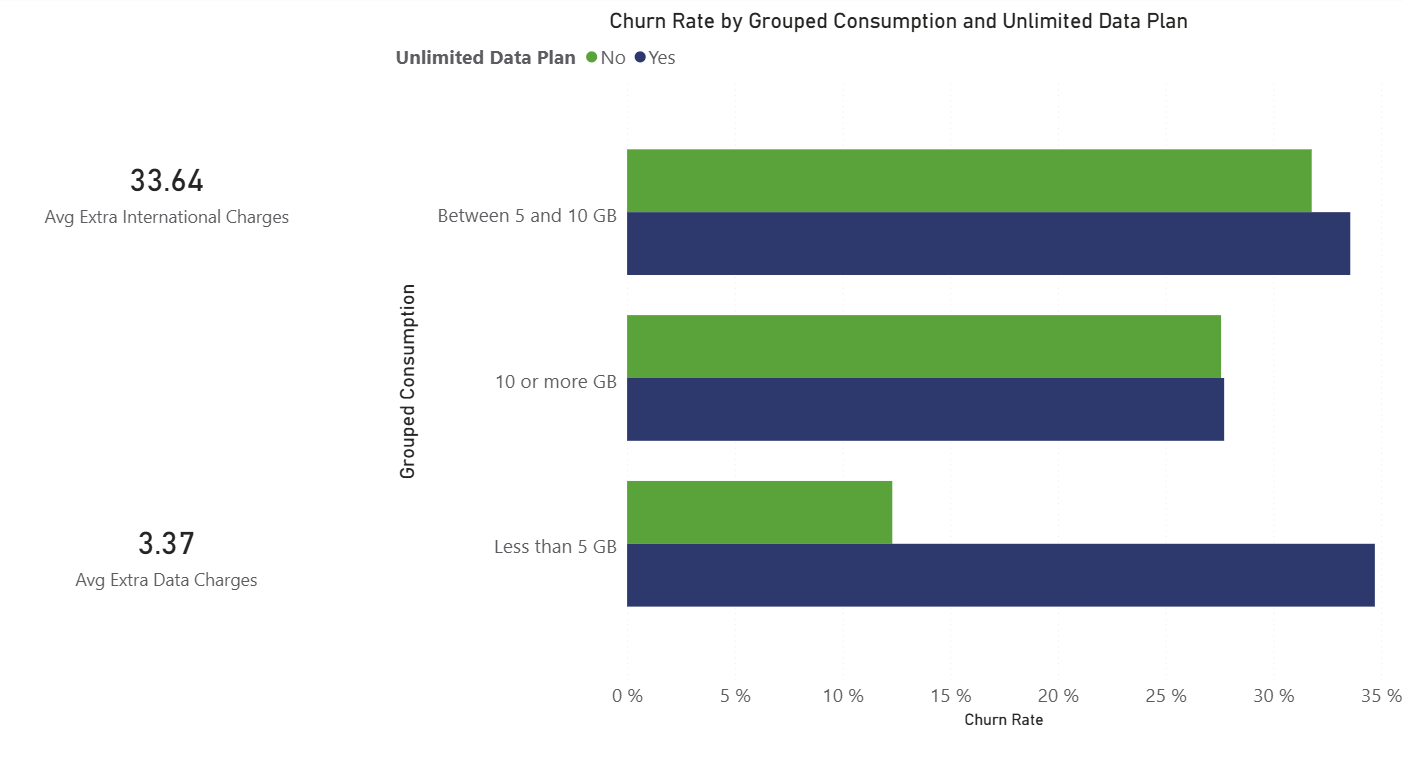

The page's visual inventory and layout, read from the dashboard file:
{"tool":"powerbi","page":{"name":"Extra Charges","canvas":[1280,720],"ordinal":3},"visuals":[{"type":"clusteredBarChart","fields":{"Category":["Databel - Data.Grouped Consumption"],"Y":["Databel - Data.Churn Rate"],"Series":["Databel - Data.Unlimited Data Plan"]},"box":[357.3,10.9,922.7,658.6],"z":0},{"type":"card","fields":{"Values":["Databel - Data.Avg Extra International Charges"]},"box":[0,10.8,309.7,329.5],"z":1000},{"type":"card","fields":{"Values":["Databel - Data.Avg Extra Data Charges"]},"box":[0,340.2,308.8,329.5],"z":2000}]}

Visuals, with their boxes in screenshot pixels (x1, y1, x2, y2), scaled from the page's 1280x720 canvas onto the 1404x783 screenshot:
clusteredBarChart - Databel - Data.Grouped Consumption x Databel - Data.Churn Rate: {"left": 392, "top": 12, "right": 1403, "bottom": 728}
card - Databel - Data.Avg Extra International Charges: {"left": 0, "top": 12, "right": 340, "bottom": 370}
card - Databel - Data.Avg Extra Data Charges: {"left": 0, "top": 370, "right": 339, "bottom": 728}
